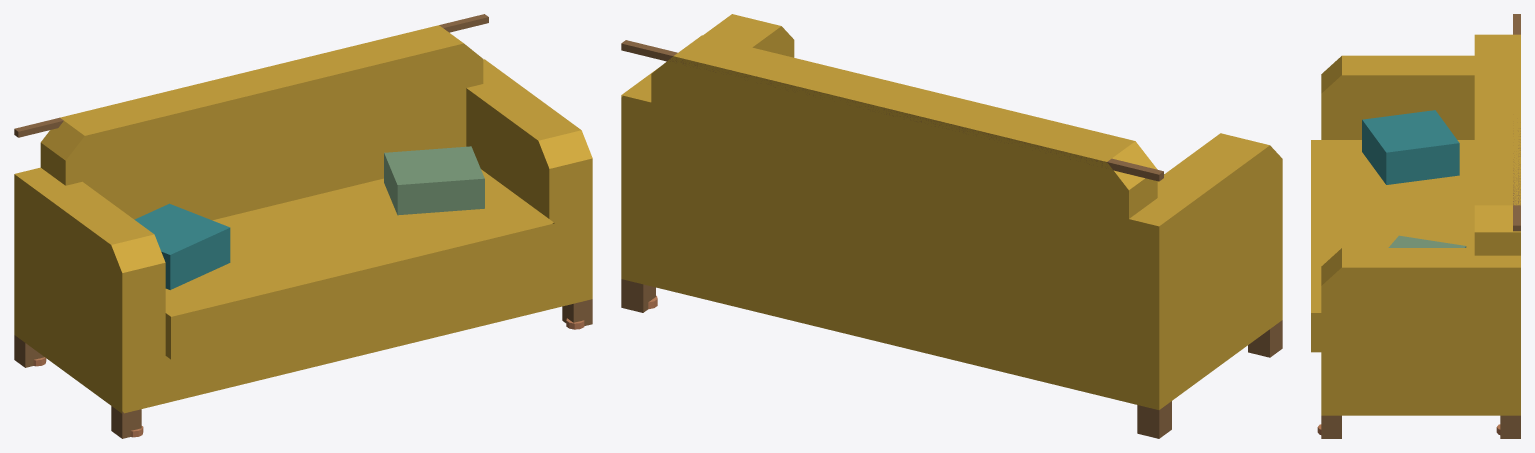
Rendered from loungeSofa.glb.
3 views of the same model, side by side, from view 1: azimuth 30°, elevation 25°; view 2: azimuth 150°, elevation 25°; view 3: azimuth 270°, elevation 25° (orthographic). The views are drawn at different scales.
Visible parts, largest first — view 1: loungeSofa(Clone); view 2: loungeSofa(Clone); view 3: loungeSofa(Clone).
Boxes of the visible parts, x1,y1,x2,y2 form: loungeSofa(Clone): (14,14,592,438); loungeSofa(Clone): (621,14,1282,438); loungeSofa(Clone): (1311,14,1520,438).
Bounding box in the file's own units: 0.98 × 0.46 × 0.41.
